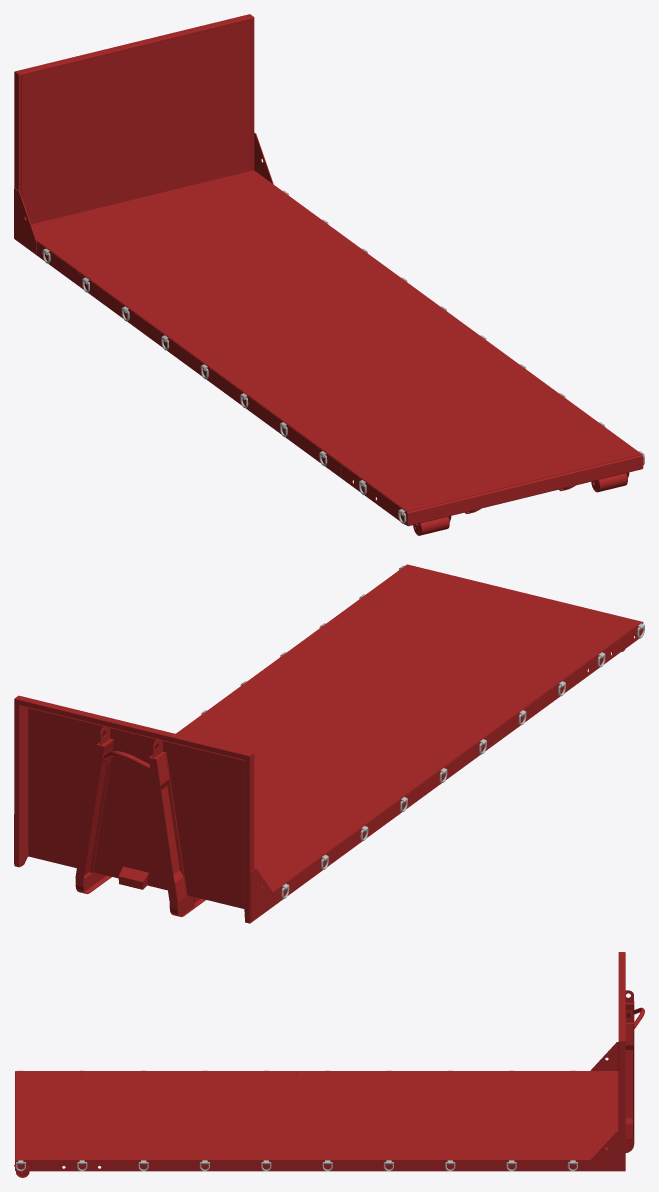
The picture shows the model from 3 angles, top to bottom: view 1: azimuth 30°, elevation 25°; view 2: azimuth 150°, elevation 25°; view 3: azimuth 270°, elevation 25°; orthographic projection. The views are drawn at different scales.
Visible parts, largest first — view 1: Solid1 (×11), Solid2 (×2); view 2: Solid1 (×14), Solid2 (×3); view 3: Solid1 (×11), Solid2 (×2).
Boxes of the visible parts, x1=… form: Solid1 (×11): x1=14, y1=14, x2=643, y2=526; Solid2 (×2): x1=19, y1=241, x2=407, y2=525; Solid1 (×14): x1=14, y1=564, x2=641, y2=923; Solid2 (×3): x1=148, y1=623, x2=642, y2=919; Solid1 (×11): x1=16, y1=952, x2=634, y2=1171; Solid2 (×2): x1=15, y1=1160, x2=618, y2=1171.
Size of the model in its own units: 2.52 by 1.82 by 7.31.
